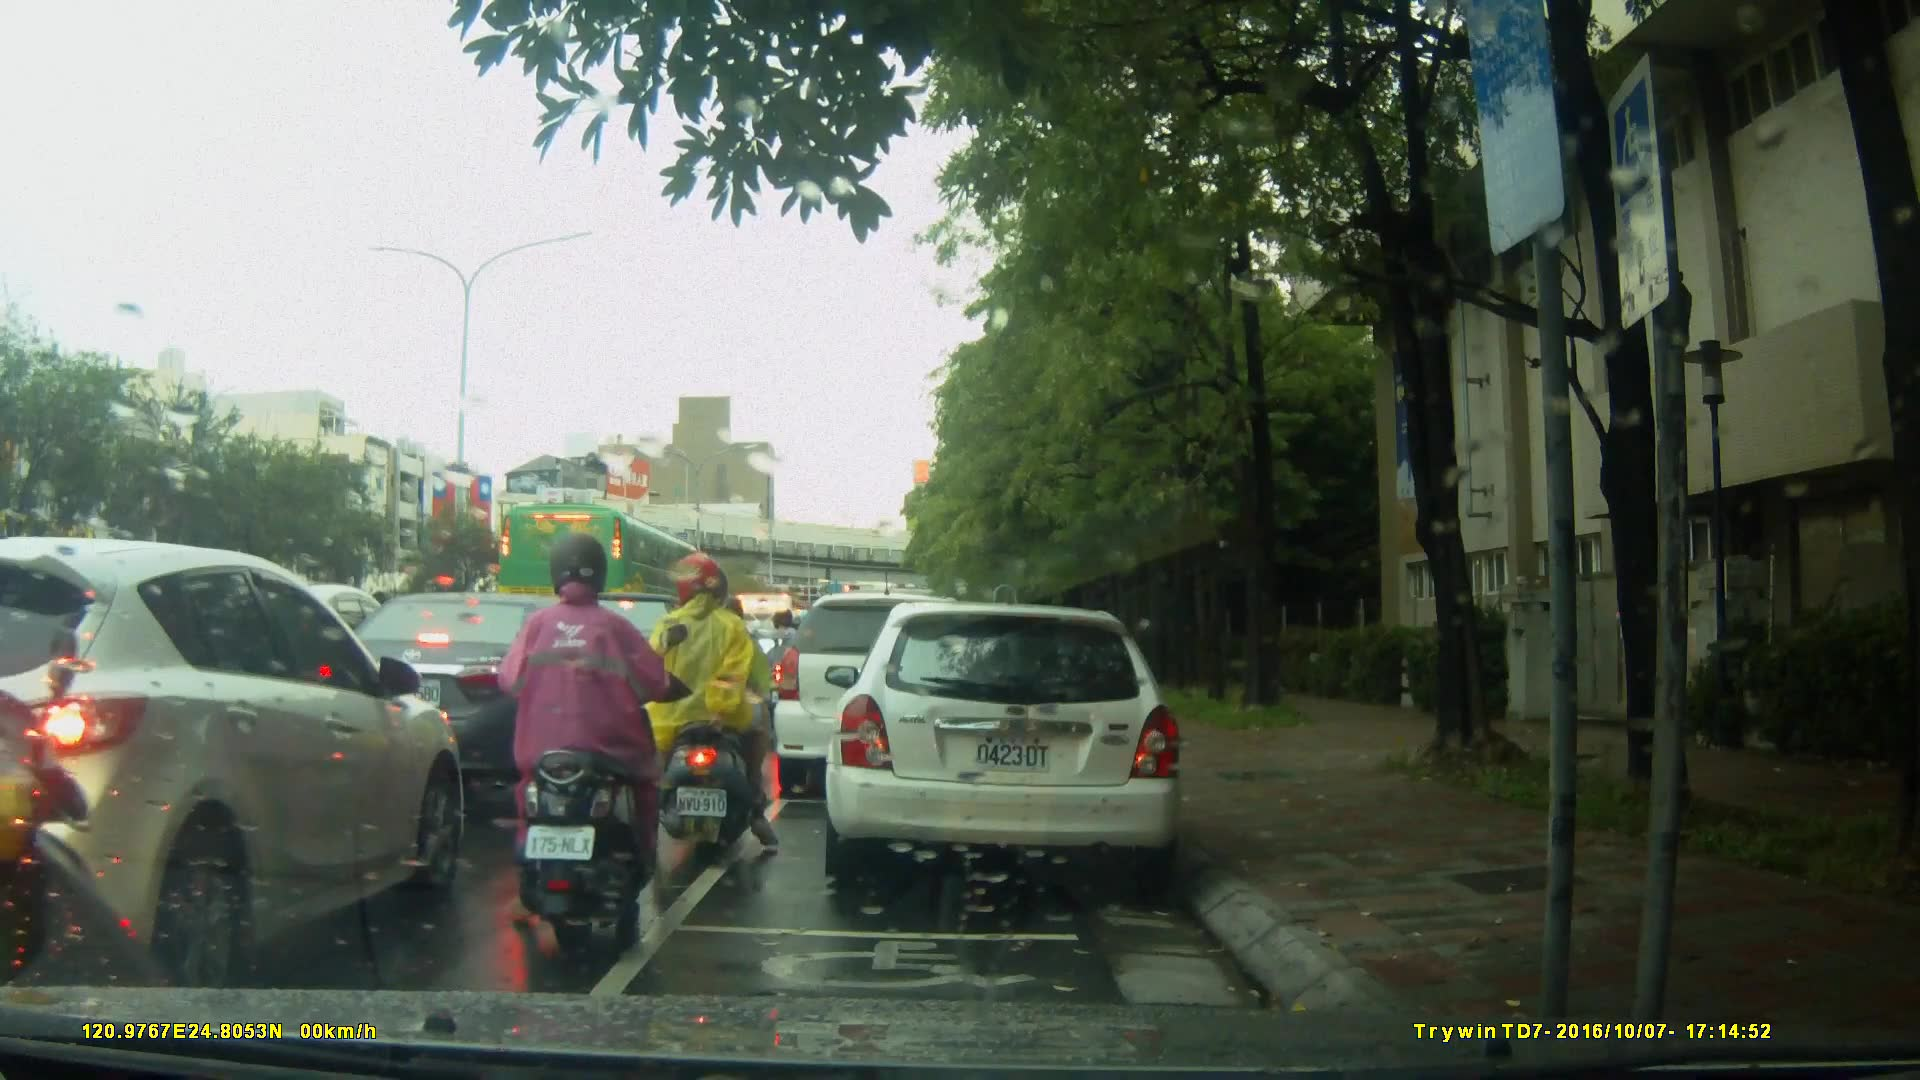rider: (510, 542, 664, 947), (647, 549, 780, 851), (711, 590, 790, 762), (762, 603, 809, 731)
vehicle: (5, 537, 468, 988), (831, 592, 1196, 897), (317, 589, 629, 776), (770, 590, 999, 804), (496, 500, 711, 636)
